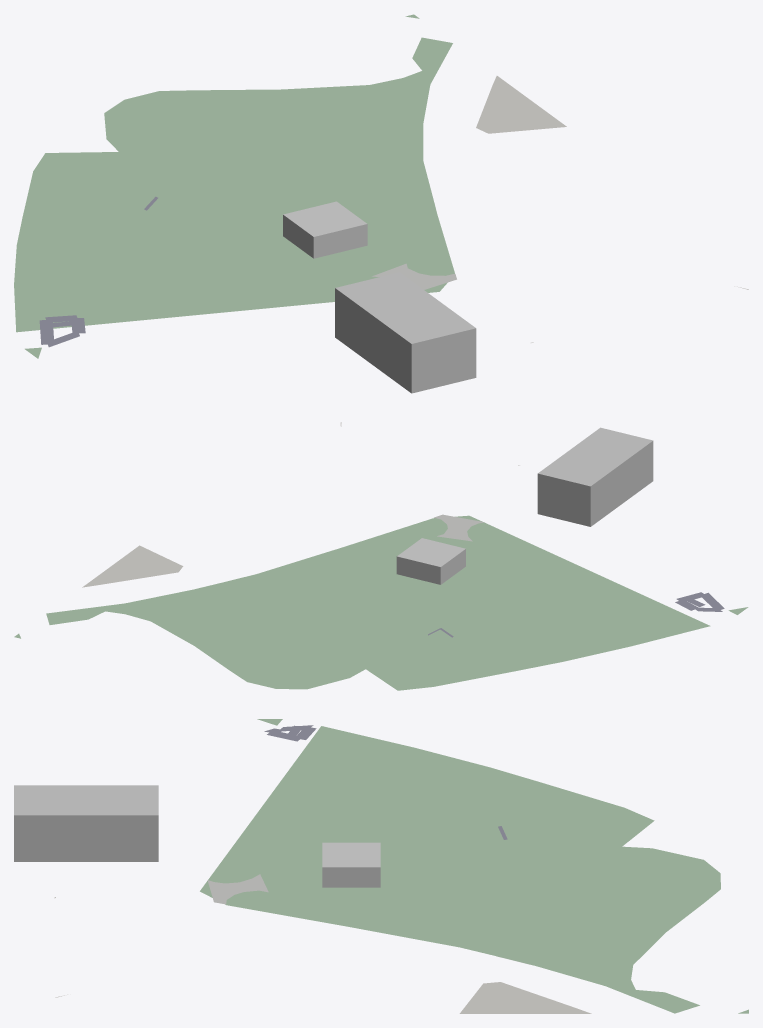
File: 102_113_mid.glb
3 renders of one model, top to bottom at view 1: azimuth 30°, elevation 25°; view 2: azimuth 150°, elevation 25°; view 3: azimuth 270°, elevation 25°, orthographic. The views are drawn at different scales.
Size of the model in its own units: 500 by 38.24 by 529.
